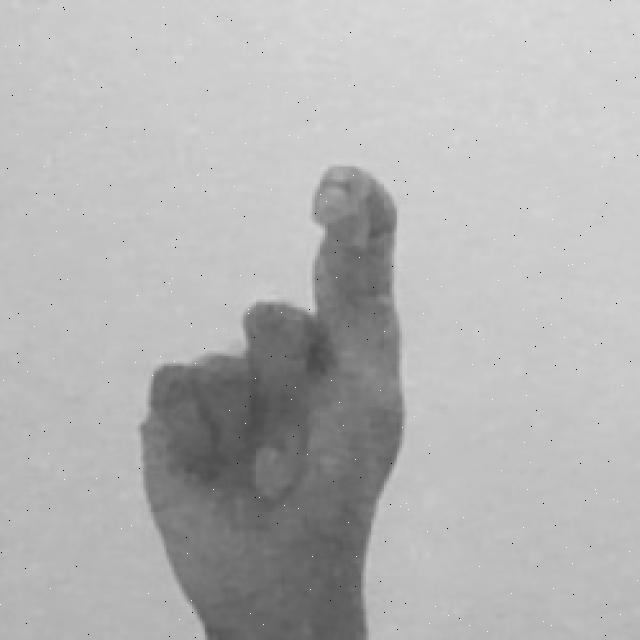T: (131, 161, 407, 640)
